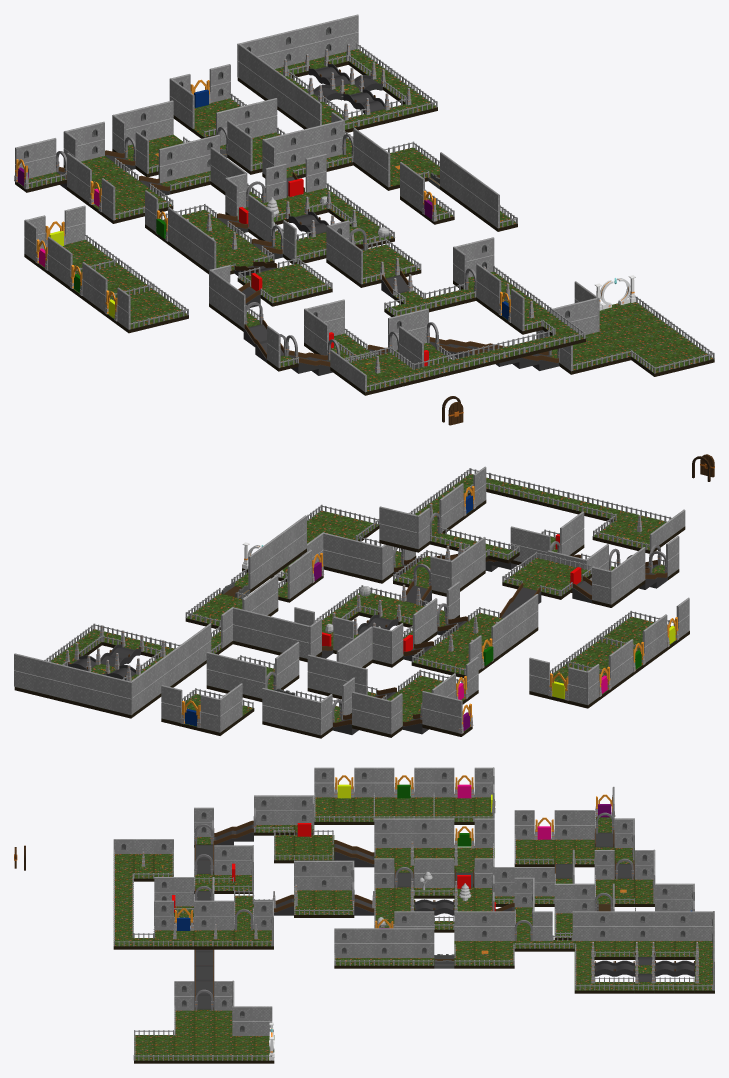
The model's file is Mask_LevelSummer.gltf.
The picture shows the model from 3 angles, top to bottom: view 1: azimuth 30°, elevation 25°; view 2: azimuth 150°, elevation 25°; view 3: azimuth 270°, elevation 25°; orthographic projection. The views are drawn at different scales.
Size of the model in its own units: 144 by 32.69 by 210.
Materials: 22 (12 with a texture image).
